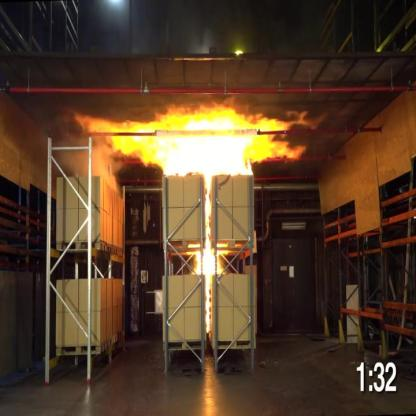fire: (67, 101, 326, 174), (186, 178, 231, 337)
